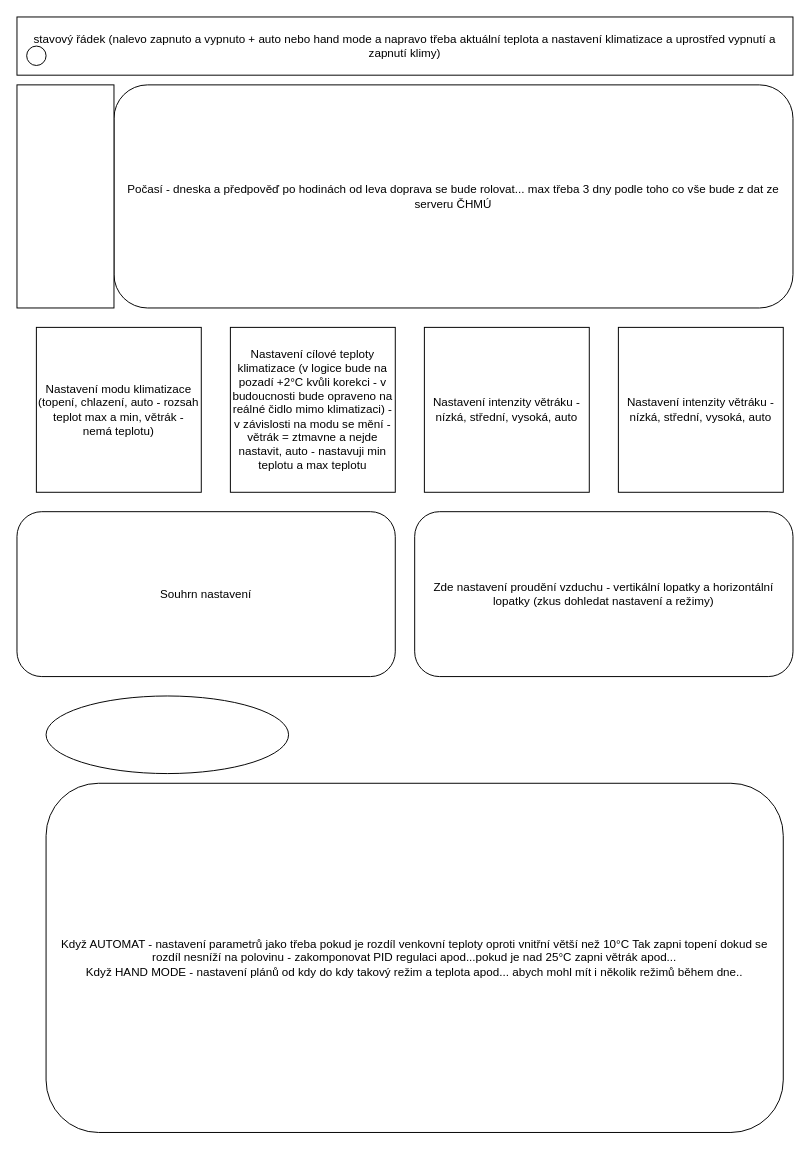
Some shapes in this 810 by 1149 pixel diagram are drawn without their labels. Each missing label, with the box of its shape:
AUTOMAT/HAND MODE (přepínací tlačítko): (45, 695, 289, 774)
Nastavení zobrazení počasí - teplota, oblačnost, srážky, vítr,...: (16, 84, 114, 308)
